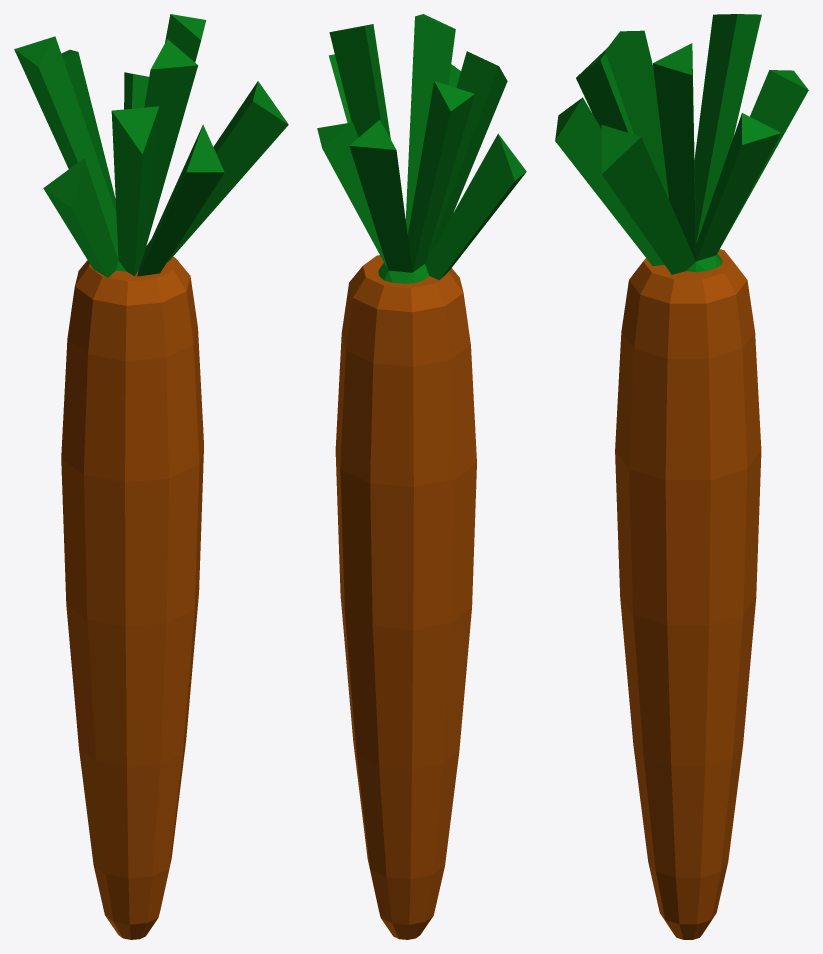
The model's file is Carrot.fbx.
3 views of the same model, side by side, from view 1: azimuth 30°, elevation 25°; view 2: azimuth 150°, elevation 25°; view 3: azimuth 270°, elevation 25° (orthographic).
Parts seen in each view (by area): view 1: Carrot, CarrotTop; view 2: Carrot, CarrotTop; view 3: Carrot, CarrotTop.
Part boxes in pixels (x1=…): Carrot: x1=61, y1=256, x2=203, y2=939; CarrotTop: x1=14, y1=14, x2=288, y2=277; Carrot: x1=335, y1=255, x2=476, y2=939; CarrotTop: x1=317, y1=14, x2=526, y2=283; Carrot: x1=615, y1=249, x2=761, y2=939; CarrotTop: x1=555, y1=14, x2=808, y2=274.
Bounding box in the file's own units: 339 × 1392 × 350.
